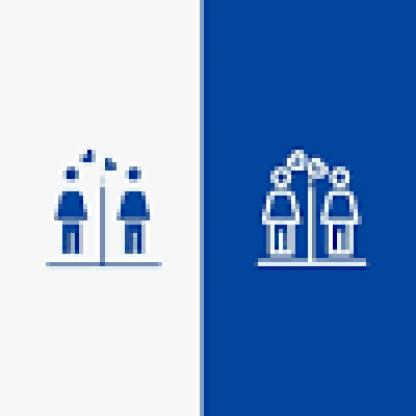toilet: (259, 149, 367, 271), (52, 150, 156, 257)
